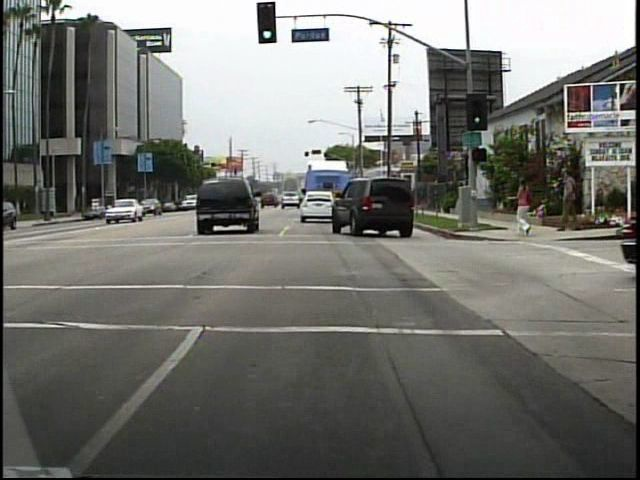person: (507, 173, 541, 242), (552, 165, 583, 235)
